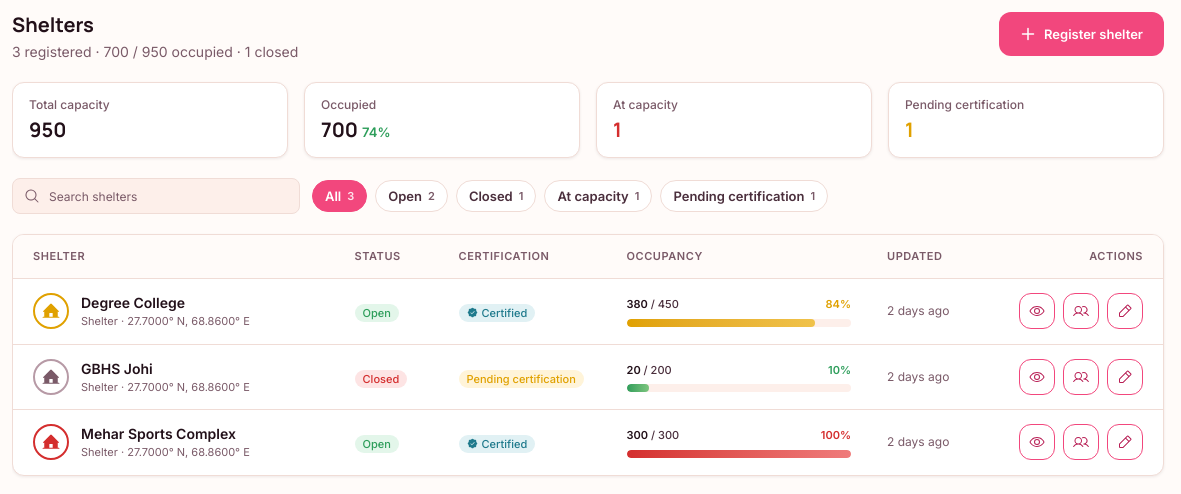
Test: NgoSheltersPage › finding shelters › filters with the pills — each with its count — and searches by name, and the two combine
Expected: the text "Degree College" is shown, [81,294,185,311]
Click the button "At capacity 1" at (598, 196), box [544,180,652,212]
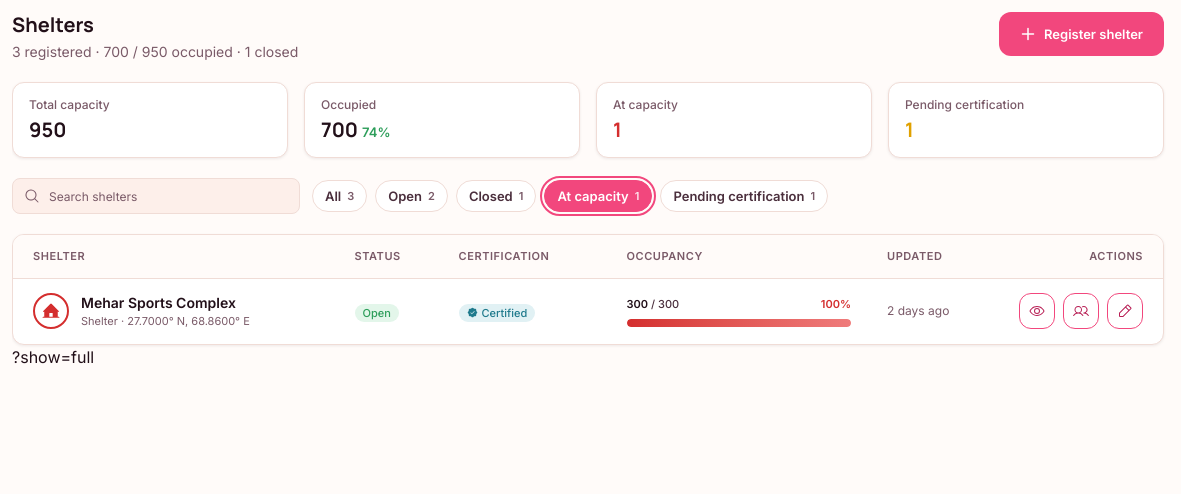
Expected: the text "Mehar Sports Complex" is shown, [81,293,250,313]
Expected: the number of list items is 1, [33,293,1143,329]
Click the button "All 3" at (340, 196), box [312,180,367,212]
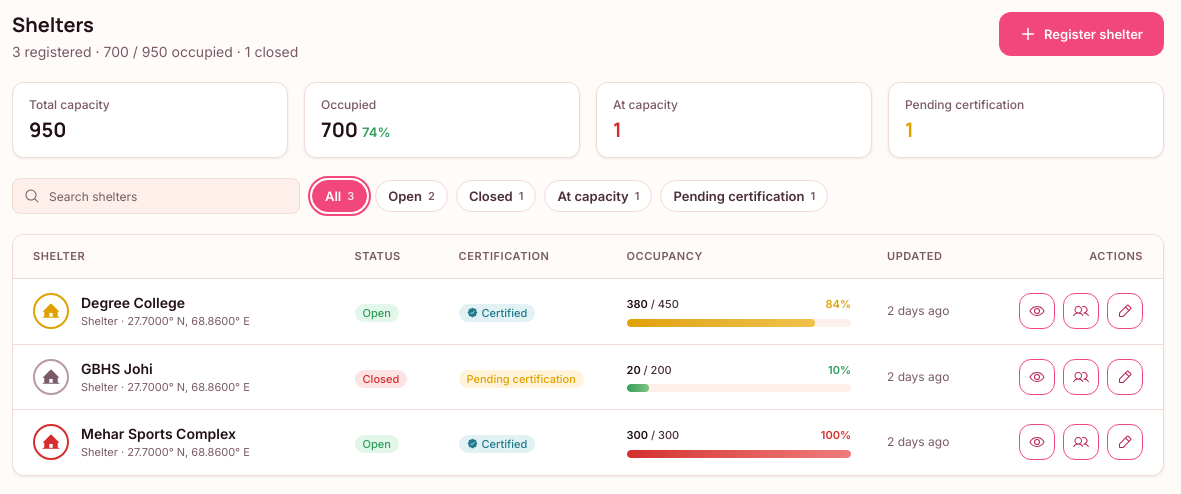
Type "johi" into the search field at (156, 196), box [12,178,300,214]
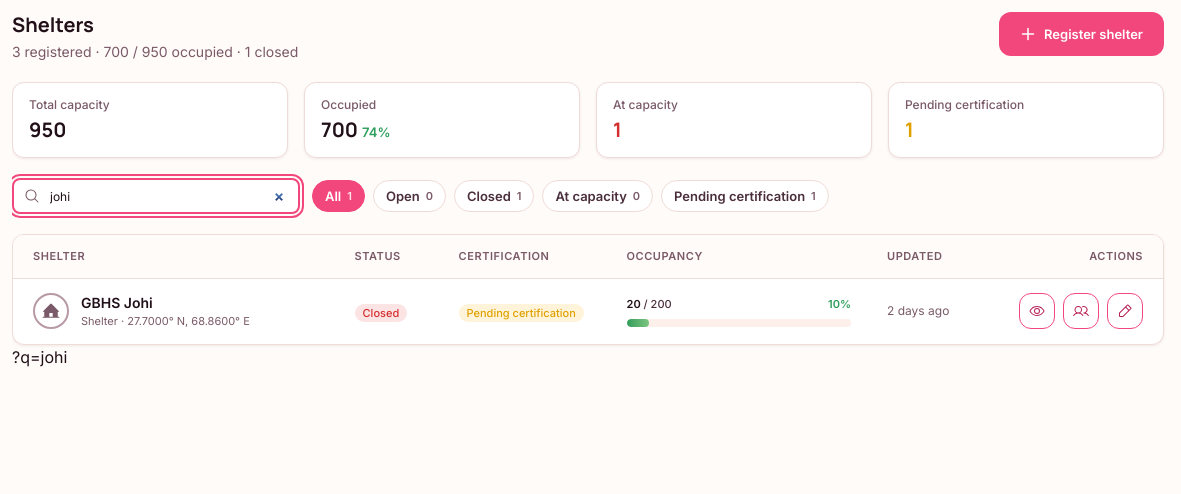
Expected: the button "Closed 1" is shown, [454,180,534,212]
Expected: the number of list items is 1, [33,293,1143,329]
Expected: the button "Open 0" is shown, [373,180,446,212]
